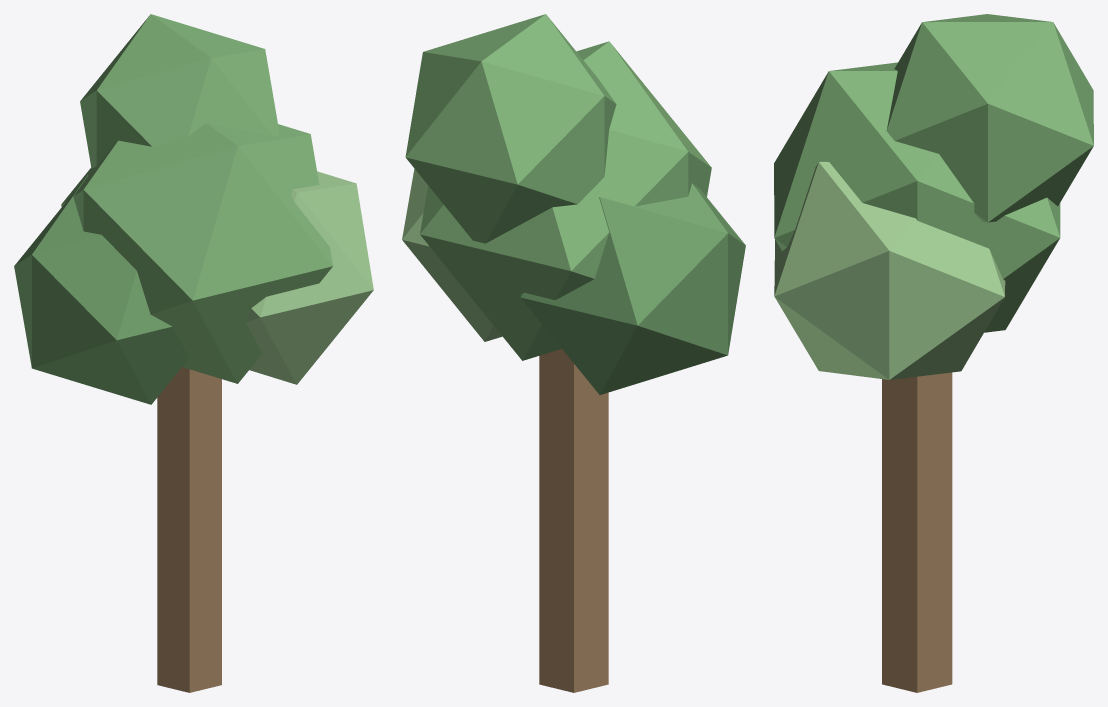
Rendered from animprop_tree_02.glb.
3 renders of one model, left to right at view 1: azimuth 30°, elevation 25°; view 2: azimuth 150°, elevation 25°; view 3: azimuth 270°, elevation 25°, orthographic. The views are drawn at different scales.
Visible parts, largest first — view 1: animprop; view 2: animprop; view 3: animprop.
Part boxes in pixels (x1=…): animprop: x1=14, y1=14, x2=373, y2=692; animprop: x1=402, y1=14, x2=745, y2=692; animprop: x1=774, y1=14, x2=1093, y2=692.
Bounding box in the file's own units: 1.41 × 2.71 × 1.18.
